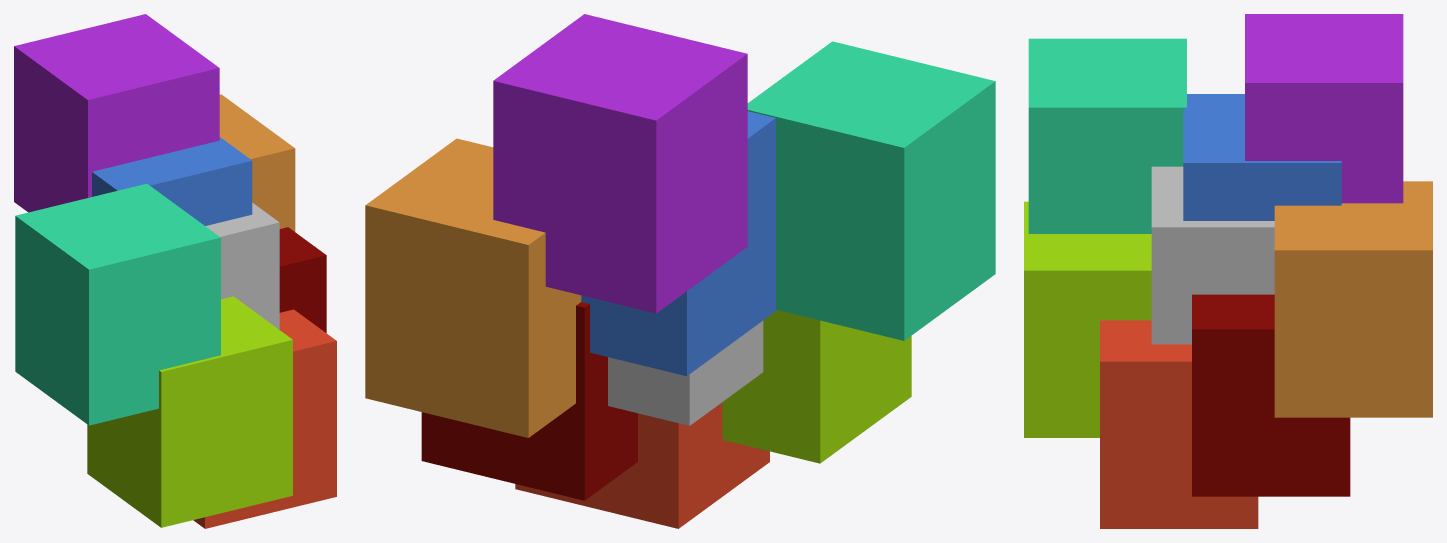
File: light_camera_test.glb
3 renders of one model, left to right at view 1: azimuth 30°, elevation 25°; view 2: azimuth 150°, elevation 25°; view 3: azimuth 270°, elevation 25°, orthographic. The views are drawn at different scales.
Visible parts, largest first — view 1: Cube.002, Cube.006, Cube.001, Cube.003, Cube.005, Cube, Cube.004, Cube.007; view 2: Cube.001, Cube.002, Cube.004, Cube.006, Cube.005, Cube.007, Cube.003, Cube; view 3: Cube.004, Cube.002, Cube.001, Cube.007, Cube.003, Cube.006, Cube, Cube.005.
Boxes of the visible parts, x1,y1,x2,y2 form: Cube.002: (15,183,220,425); Cube.006: (87,296,292,527); Cube.001: (14,14,219,212); Cube.003: (193,309,336,528); Cube.005: (92,137,252,225); Cube: (205,203,279,329); Cube.004: (219,94,295,231); Cube.007: (279,227,326,332); Cube.001: (493,14,747,313); Cube.002: (747,41,995,340); Cube.004: (365,138,581,437); Cube.006: (722,310,911,463); Cube.005: (581,111,776,376); Cube.007: (421,302,637,500); Cube.003: (515,402,769,528); Cube: (608,320,763,425); Cube.004: (1274,181,1432,417); Cube.002: (1028,38,1186,233); Cube.001: (1245,14,1403,203); Cube.007: (1192,294,1350,496); Cube.003: (1100,320,1258,528); Cube.006: (1024,201,1151,437); Cube: (1151,166,1274,344); Cube.005: (1183,94,1341,220).
Bounding box in the file's own units: 2.69 × 3.13 × 2.76.
